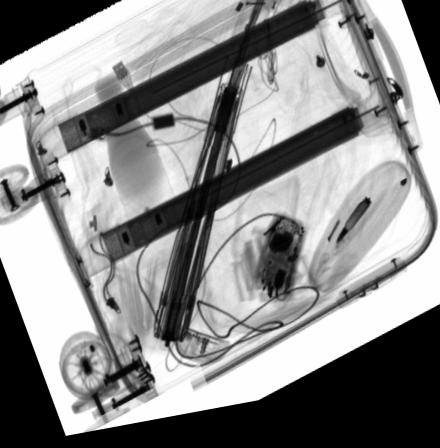Bullet: (334, 209, 371, 259)
